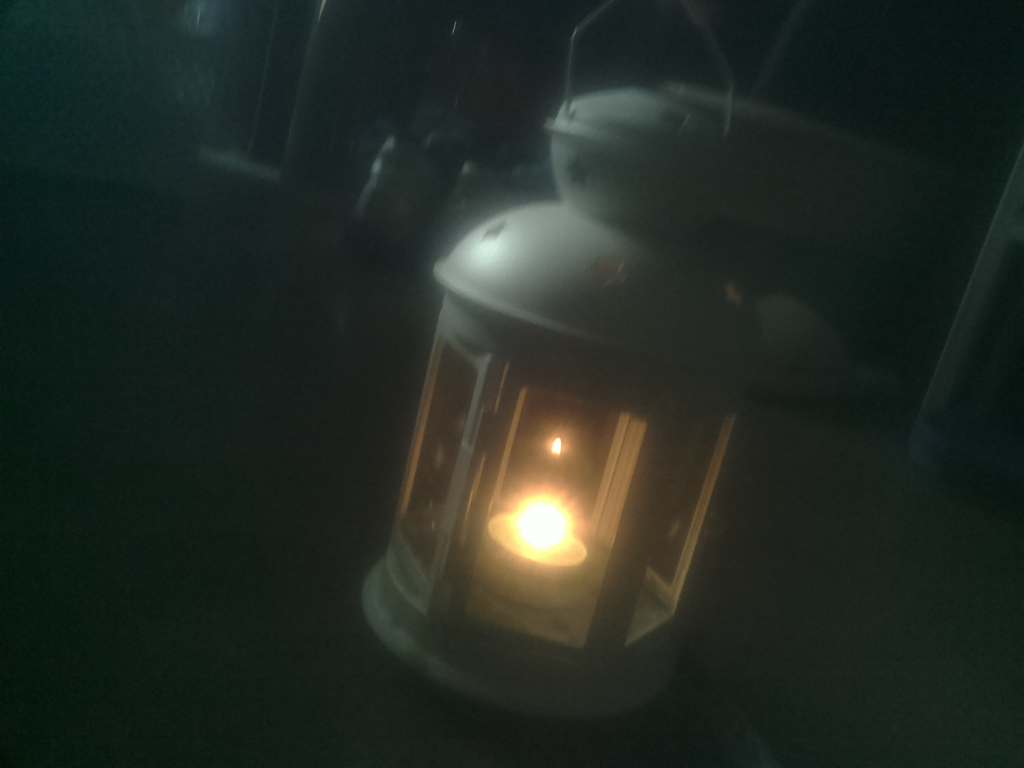fire: (478, 476, 591, 607)
